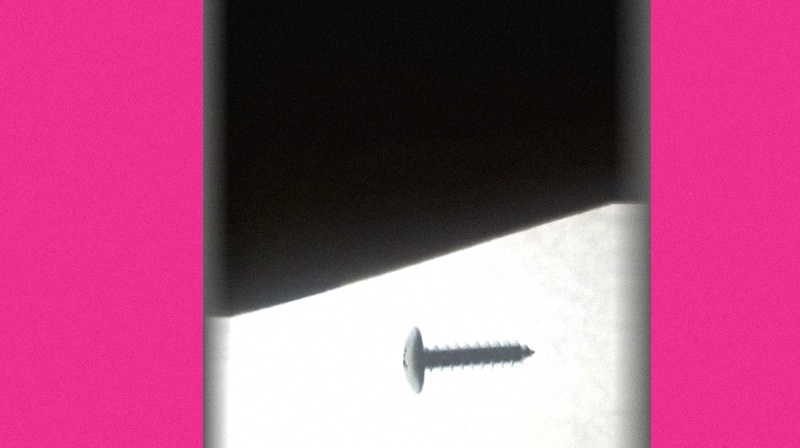S003: (396, 322, 536, 397)
